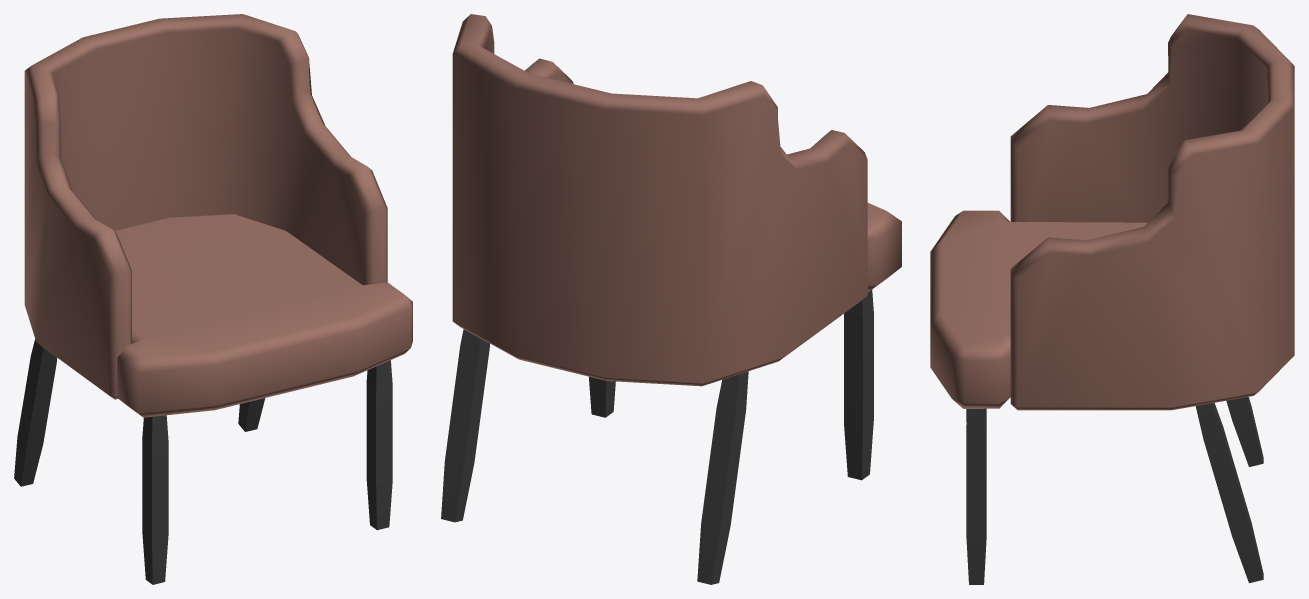
File: SM_lounge_chair_001.FBX
The picture shows the model from 3 angles, left to right: view 1: azimuth 30°, elevation 25°; view 2: azimuth 150°, elevation 25°; view 3: azimuth 270°, elevation 25°; orthographic projection. The views are drawn at different scales.
Visible parts, largest first — view 1: SM_lounge_chair_001; view 2: SM_lounge_chair_001; view 3: SM_lounge_chair_001.
Part boxes in pixels (x1=…): SM_lounge_chair_001: x1=14, y1=14, x2=412, y2=584; SM_lounge_chair_001: x1=441, y1=14, x2=901, y2=584; SM_lounge_chair_001: x1=930, y1=14, x2=1294, y2=584.
Size of the model in its own units: 65.77 by 69.95 by 94.
